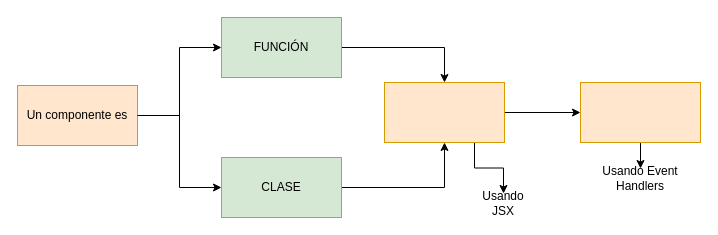
Image size: 718x235. Some labels were removed from this diagram. Here are the shapes that lost their labels. From the top down, the centre of each, then its label:
(444,112): Que produce HTML
(640,112): Y maneja la interacción con el usuario
